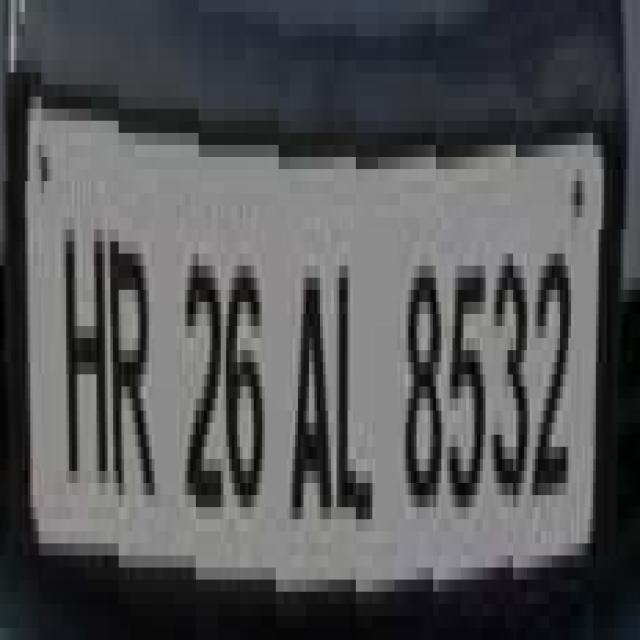license_plate: (16, 48, 598, 640)
